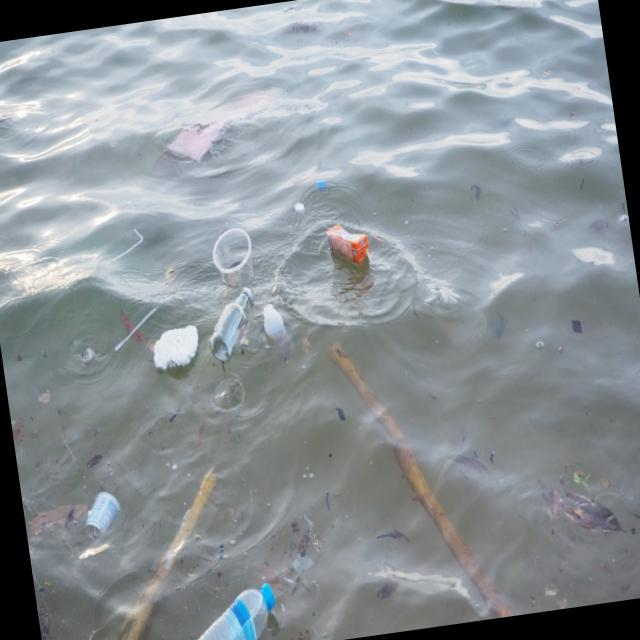foam: (147, 317, 207, 380)
plastic bottle: (163, 577, 288, 640), (202, 285, 266, 367), (261, 300, 303, 366)
